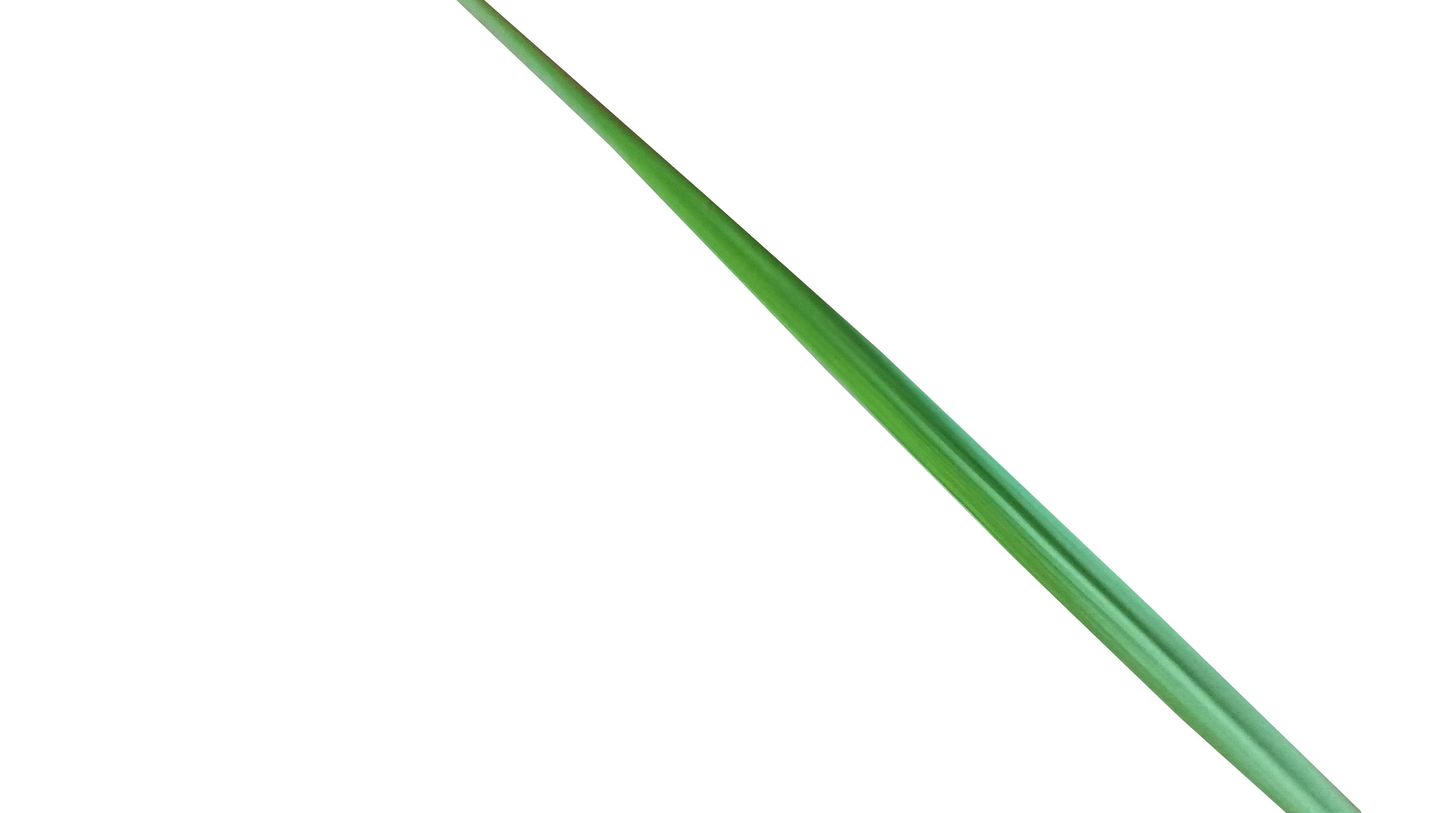Healthy: (445, 0, 1363, 813)
